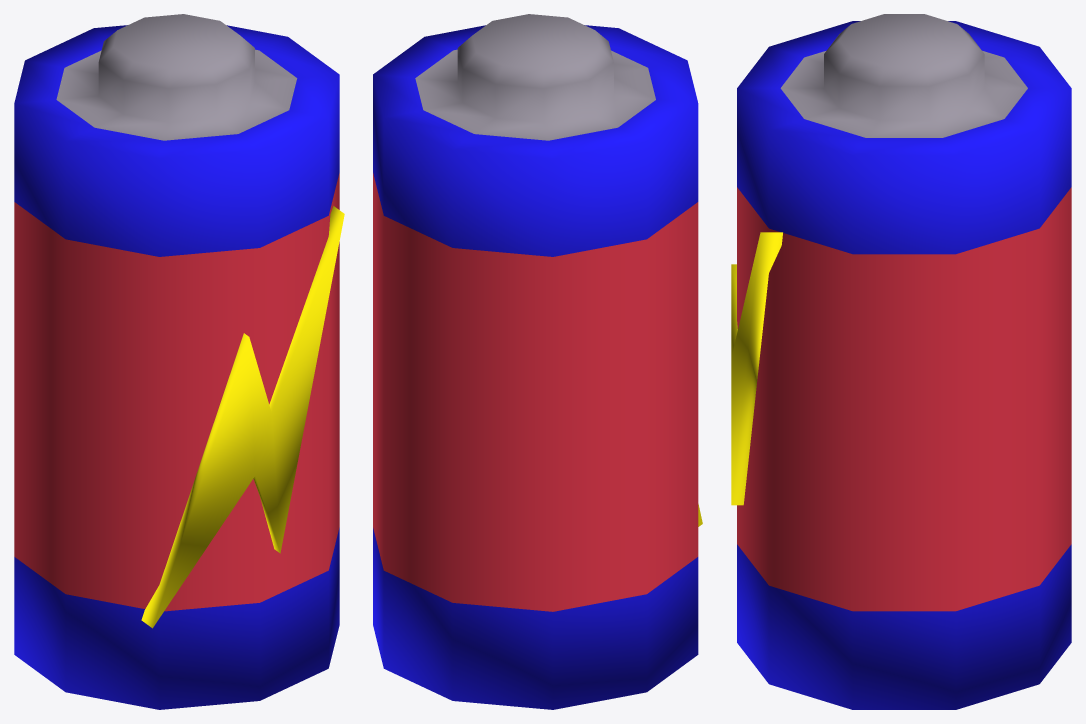
The model's file is battery.glb.
3 views of the same model, side by side, from view 1: azimuth 30°, elevation 25°; view 2: azimuth 150°, elevation 25°; view 3: azimuth 270°, elevation 25° (orthographic).
Visible parts, largest first — view 1: Battery; view 2: Battery; view 3: Battery.
Boxes of the visible parts, x1,y1,x2,y2 form: Battery: [14, 14, 344, 709]; Battery: [373, 14, 702, 709]; Battery: [731, 14, 1071, 709].
Bounding box in the file's own units: 0.7467 × 1.56 × 0.7985.
1 material, 1 textured.
